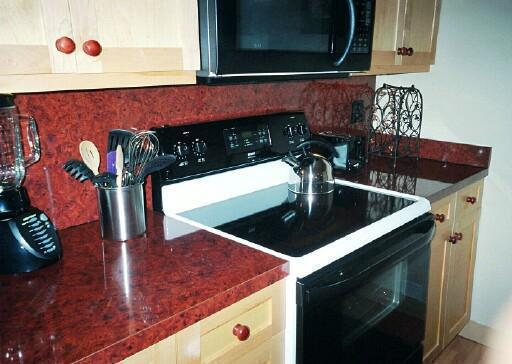Electrodomestico: (293, 221, 424, 356)
